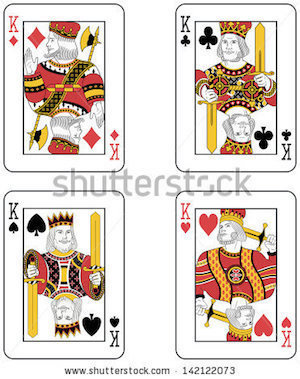KingOfClubs: (167, 1, 300, 178)
KingOfDiamonds: (2, 1, 129, 174)
KingOfHearts: (165, 185, 300, 361)
KingOfSpades: (1, 188, 132, 366)
